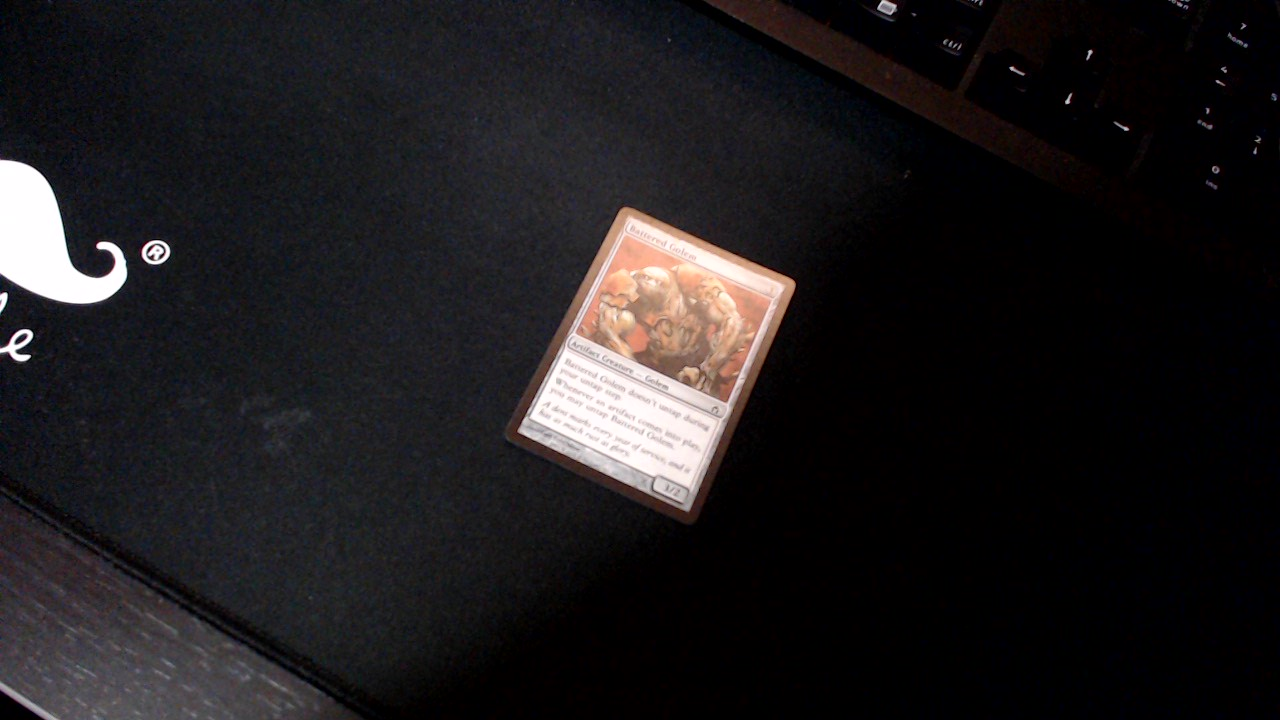MTG Card: (501, 198, 813, 532)
